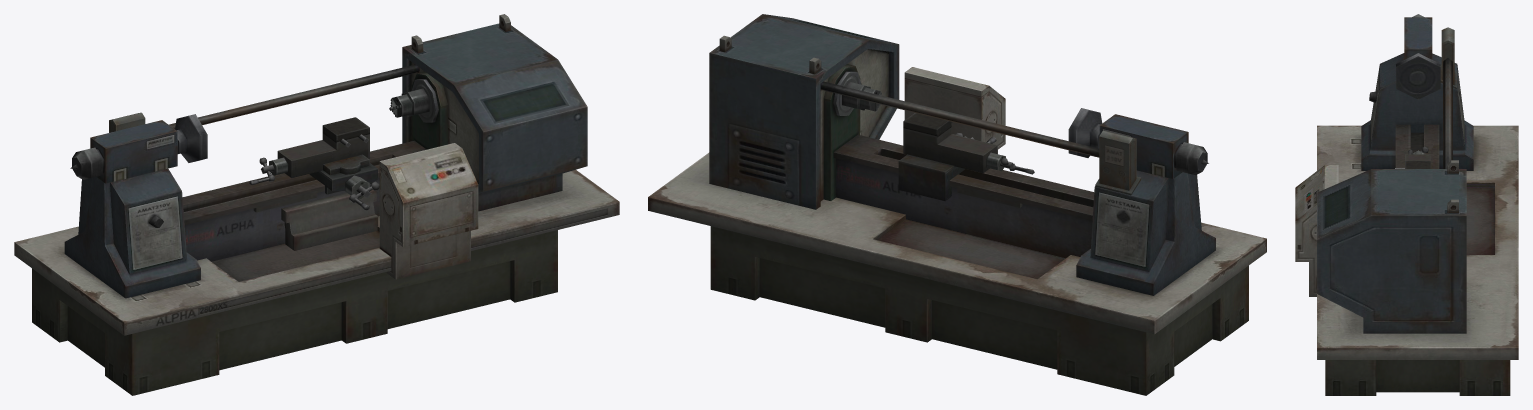
File: mf_lathe002.FBX
3 views of the same model, side by side, from view 1: azimuth 30°, elevation 25°; view 2: azimuth 150°, elevation 25°; view 3: azimuth 270°, elevation 25° (orthographic). The views are drawn at different scales.
Visible parts, largest first — view 1: mf_lathe002; view 2: mf_lathe002; view 3: mf_lathe002.
Boxes of the visible parts, box(x1,y1,x2,y2) form: mf_lathe002: box(14, 14, 619, 395); mf_lathe002: box(648, 14, 1266, 395); mf_lathe002: box(1295, 14, 1518, 395).
Bounding box in the file's own units: 4.23 × 1.8 × 1.8.
